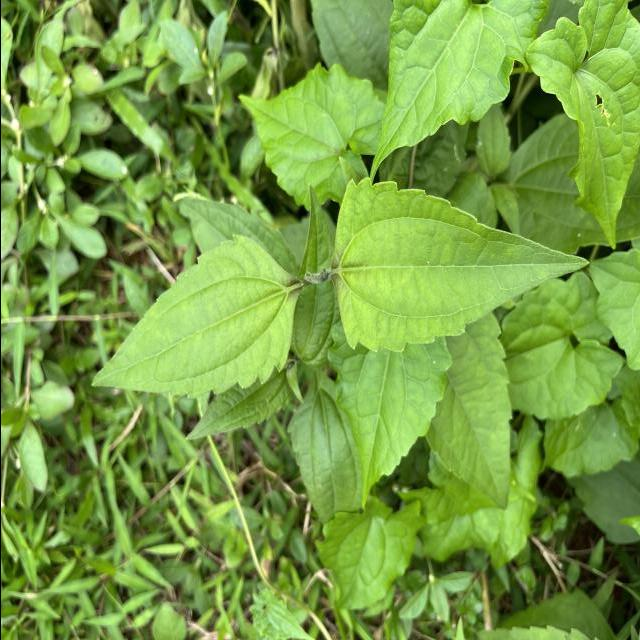Chromolaena odorata: (327, 174, 592, 358), (87, 230, 305, 404)
